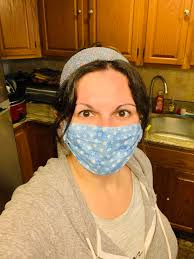mask: (61, 56, 145, 174)
